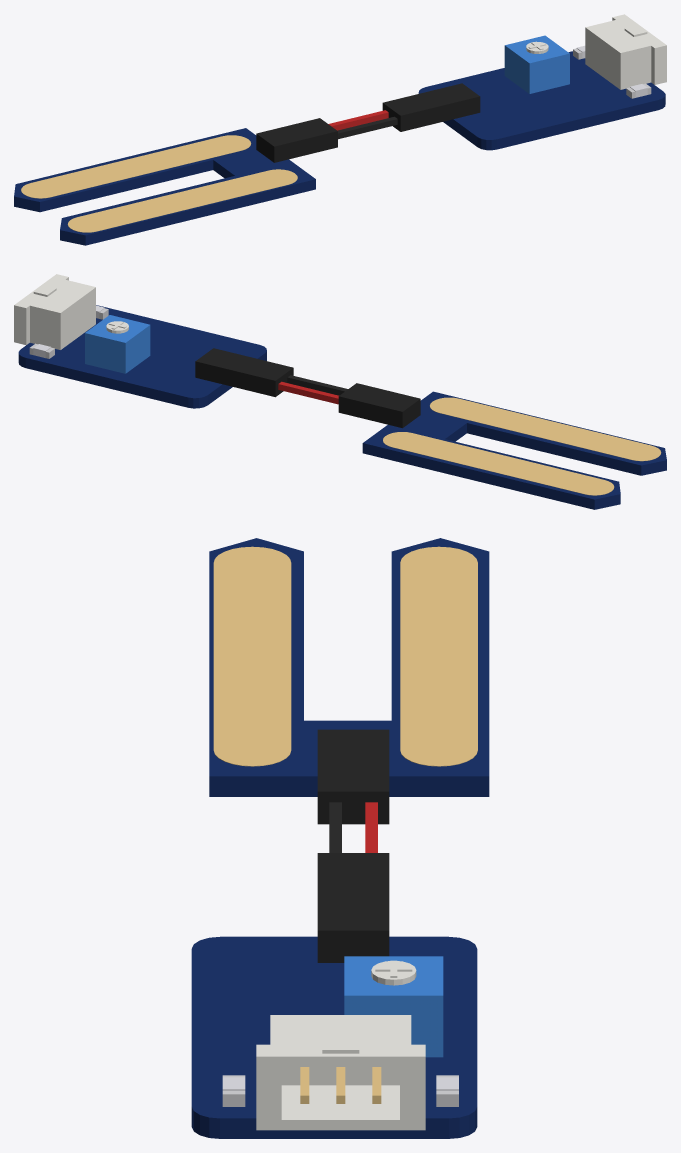
Rendered from soil.glb.
The picture shows the model from 3 angles, top to bottom: view 1: azimuth 30°, elevation 25°; view 2: azimuth 150°, elevation 25°; view 3: azimuth 270°, elevation 25°; orthographic projection. The views are drawn at different scales.
Visible parts, largest first — view 1: soil_pcb, soil_probe, soil_xh, soil_probe_b, soil_probe_a, soil_pot, soil_h1, soil_jumper_a, soil_jumper_b, soil_probe_header, soil_wire_black, soil_wire_red; view 2: soil_pcb, soil_probe, soil_xh, soil_probe_a, soil_probe_b, soil_pot, soil_h1, soil_jumper_a, soil_jumper_b, soil_probe_header, soil_wire_red, soil_wire_black; view 3: soil_pcb, soil_probe, soil_xh, soil_probe_b, soil_probe_a, soil_pot, soil_h1, soil_jumper_b, soil_jumper_a, soil_probe_header, soil, soil_pot_screw.
Part boxes in pixels (x1,y1,x2,y2): soil_pcb: (418,51,665,150); soil_probe: (14,128,315,245); soil_xh: (585,14,666,89); soil_probe_b: (67,169,297,232); soil_probe_a: (21,135,251,198); soil_pot: (504,35,569,93); soil_h1: (420,83,480,122); soil_jumper_a: (382,93,437,131); soil_jumper_b: (283,118,337,156); soil_probe_header: (256,127,301,162); soil_wire_black: (337,116,397,139); soil_wire_red: (328,110,388,130); soil_pcb: (18,305,266,408); soil_probe: (362,391,666,509); soil_xh: (14,274,95,349); soil_probe_a: (383,432,614,495); soil_probe_b: (430,397,661,461); soil_pot: (85,315,150,373); soil_h1: (195,348,255,387); soil_jumper_a: (238,358,293,397); soil_jumper_b: (338,383,393,421); soil_probe_header: (375,392,420,428); soil_wire_red: (278,381,338,404); soil_wire_black: (287,375,347,395); soil_pcb: (191,936,477,1138); soil_probe: (209,538,489,796); soil_xh: (256,1015,425,1130); soil_probe_b: (213,546,291,766); soil_probe_a: (400,546,477,766); soil_pot: (344,956,443,1057); soil_h1: (317,888,389,962); soil_jumper_b: (317,755,389,824); soil_jumper_a: (317,853,389,888); soil_probe_header: (317,729,389,755); soil: (300,1067,381,1103); soil_pot_screw: (371,960,416,985).
Size of the model in its own units: 0.0992 by 0.00915 by 0.0211.
